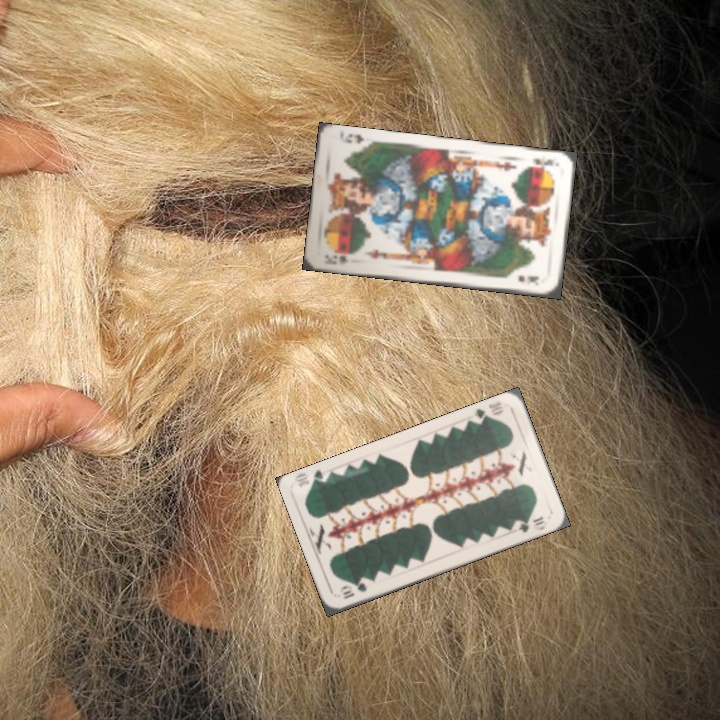G10: (470, 397, 506, 426), (336, 578, 369, 602)
SK: (320, 250, 352, 268), (523, 154, 556, 171)
